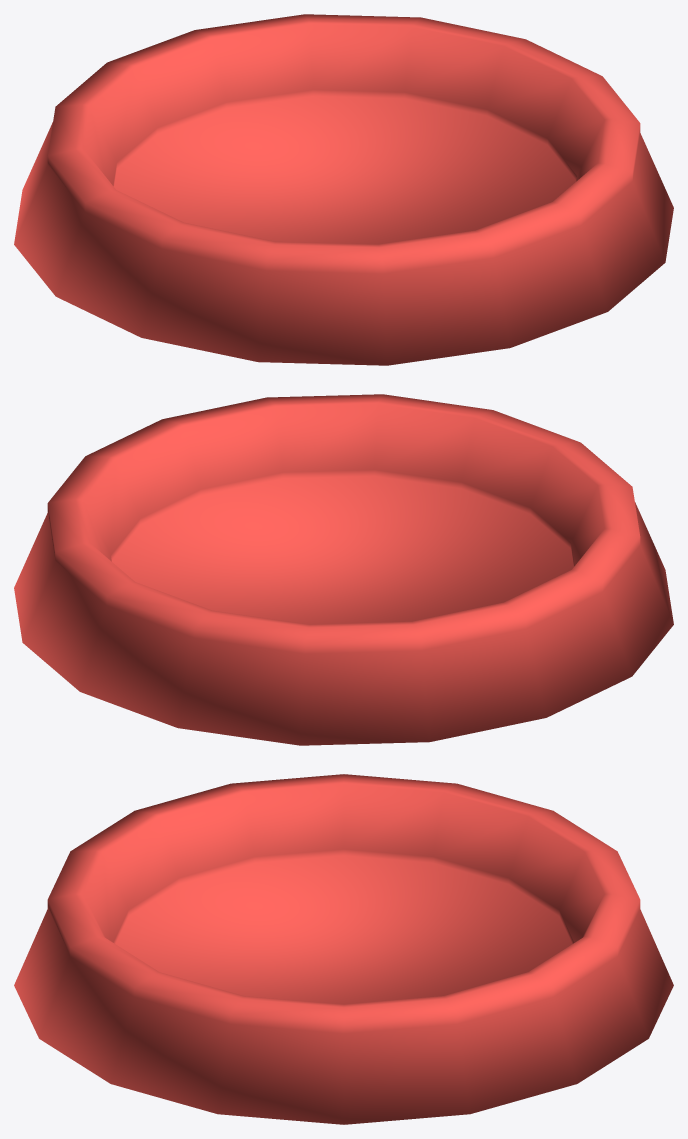
Rendered from wasserschuessel.fbx.
3 renders of one model, top to bottom at view 1: azimuth 30°, elevation 25°; view 2: azimuth 150°, elevation 25°; view 3: azimuth 270°, elevation 25°, orthographic.
Visible parts, largest first — view 1: Pot; view 2: Pot; view 3: Pot.
Part boxes in pixels (<box>): Pot: <box>14,14,673,365</box>; Pot: <box>14,394,673,745</box>; Pot: <box>14,774,673,1124</box>.
Size of the model in its own units: 249 by 37.88 by 249.
